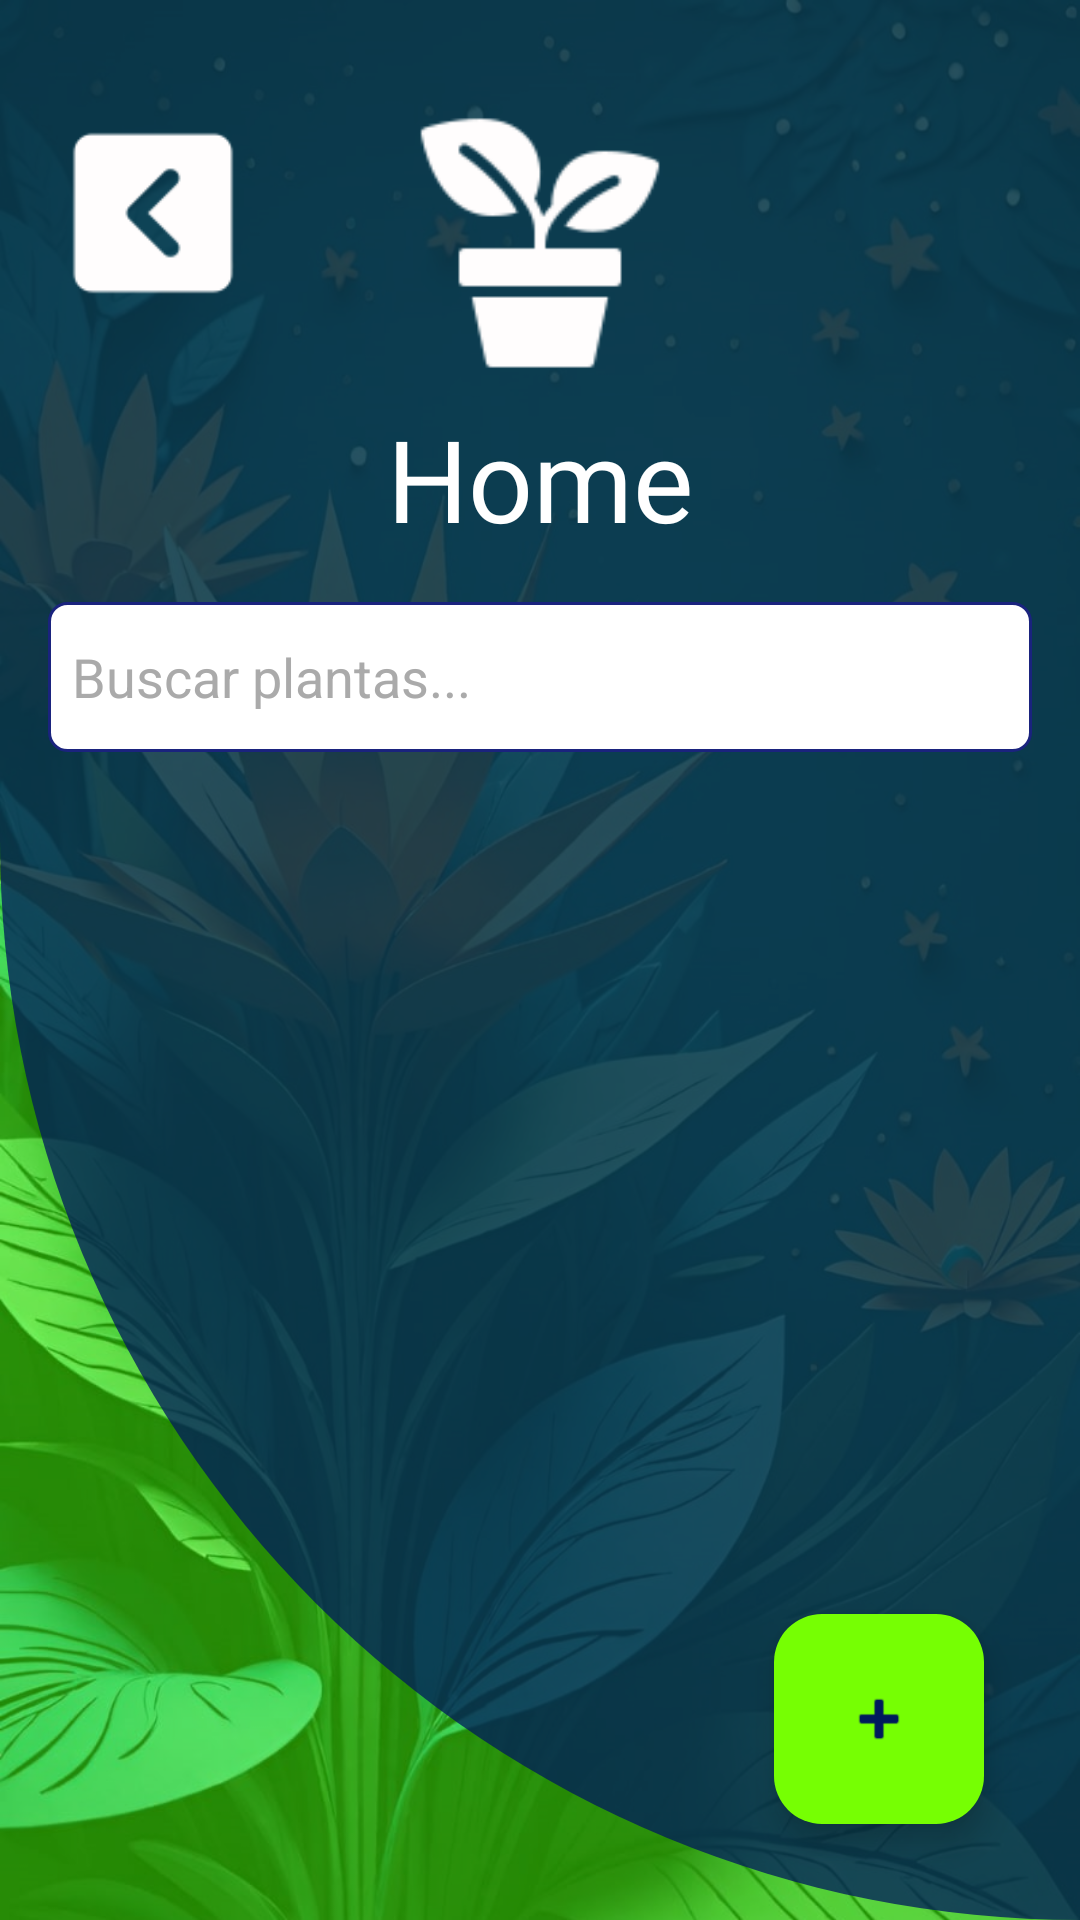

Where to tap for icons on this 1080 × 1920 app screen, as point (x, y):
agregar: point (879, 1719)
maceta: point (540, 238)
